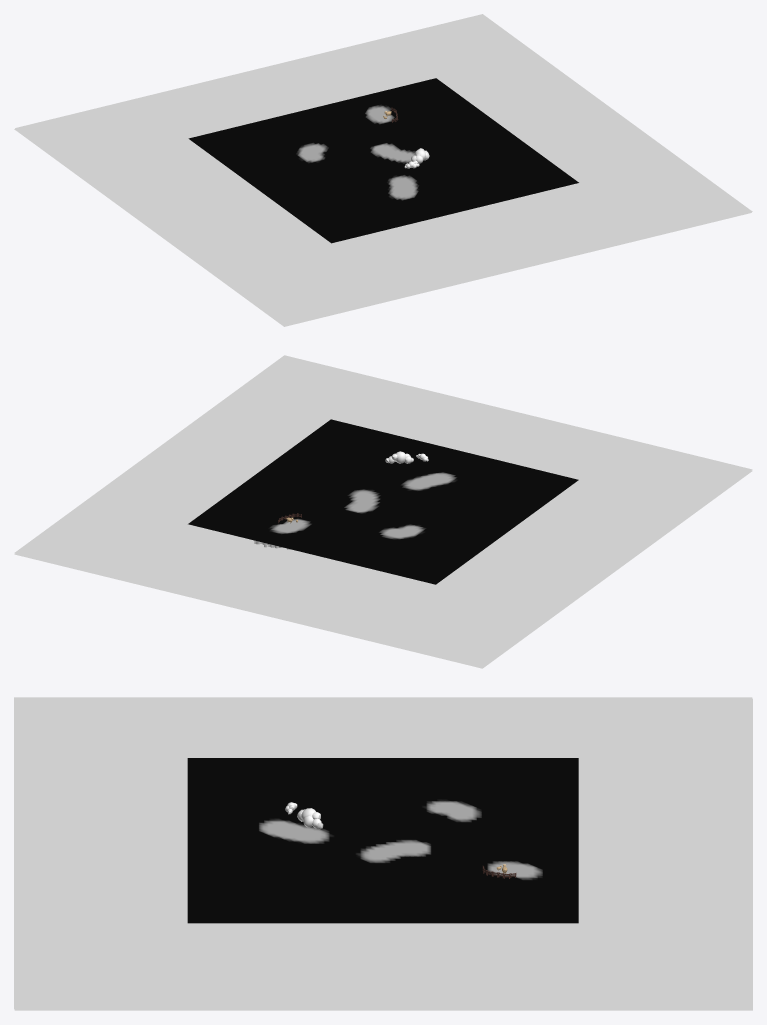
File: ireland-transformed.glb
3 renders of one model, top to bottom at view 1: azimuth 30°, elevation 25°; view 2: azimuth 150°, elevation 25°; view 3: azimuth 270°, elevation 25°, orthographic. The views are drawn at different scales.
Parts seen in each view (by area): view 1: sea, Plane, edge-map; view 2: sea, Plane, edge-map; view 3: sea, Plane, edge-map.
Part boxes in pixels (left/top/right/bottom): sea: left=15, top=14, right=752, bottom=325; Plane: left=188, top=78, right=578, bottom=243; edge-map: left=14, top=129, right=751, bottom=326; sea: left=14, top=355, right=752, bottom=667; Plane: left=188, top=419, right=578, bottom=584; edge-map: left=14, top=470, right=752, bottom=668; sea: left=14, top=697, right=752, bottom=1009; Plane: left=187, top=758, right=578, bottom=923; edge-map: left=14, top=698, right=752, bottom=1010.
Bounding box in the file's own units: 20.14 × 1.79 × 20.14.
Materials: 4 (2 with a texture image).
